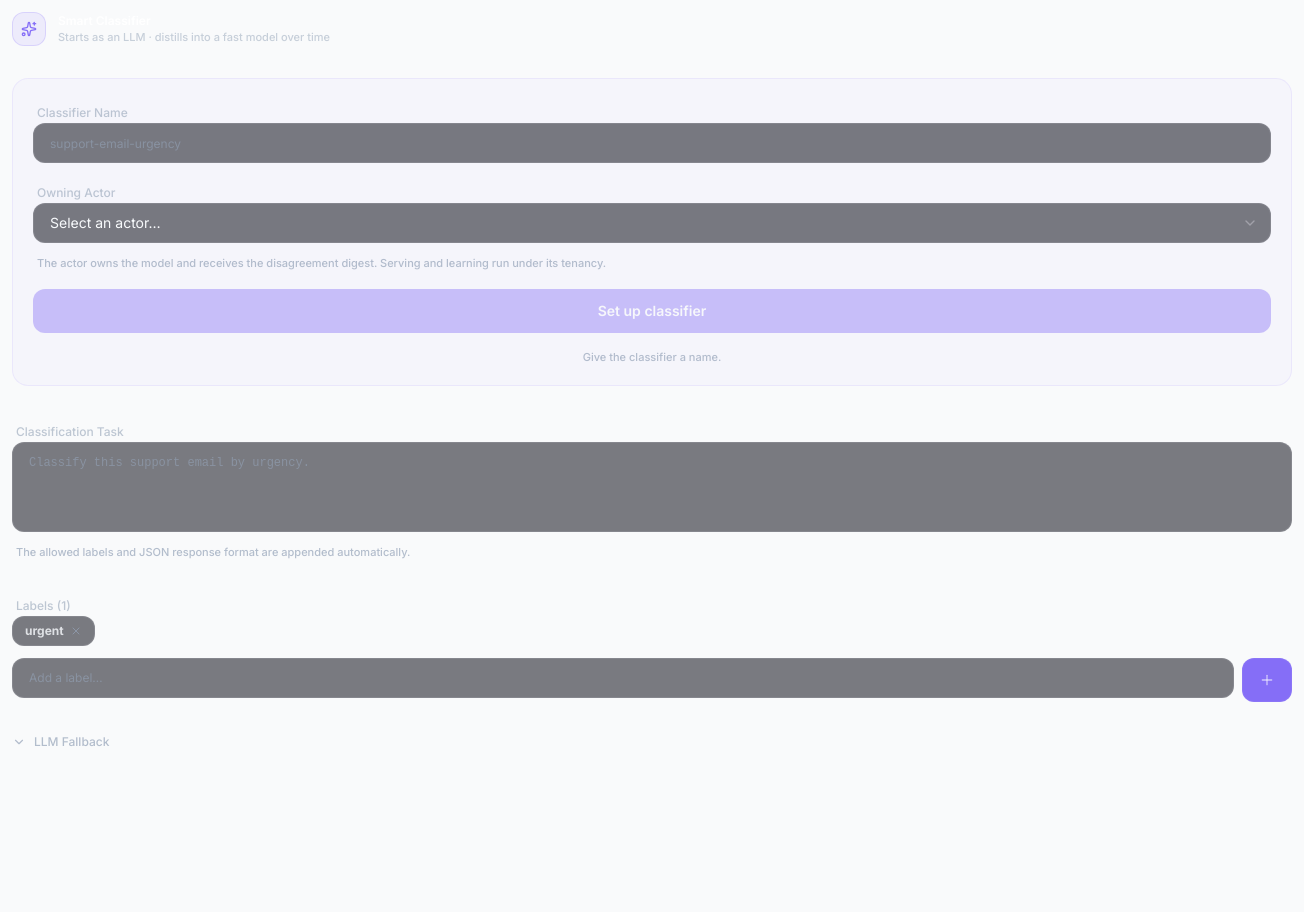
SmartClassifierConfig › disables setup until name, 2+ labels, and an actor are provided
Expected: the button "Set up classifier" is disabled, [33,289,1271,333]
# With a valid name the reason advances to the missing-label requirement.
Step 1. Type "email-urgency" into the field with placeholder "support-email-urgency" → (652, 143), box [33,123,1271,163]
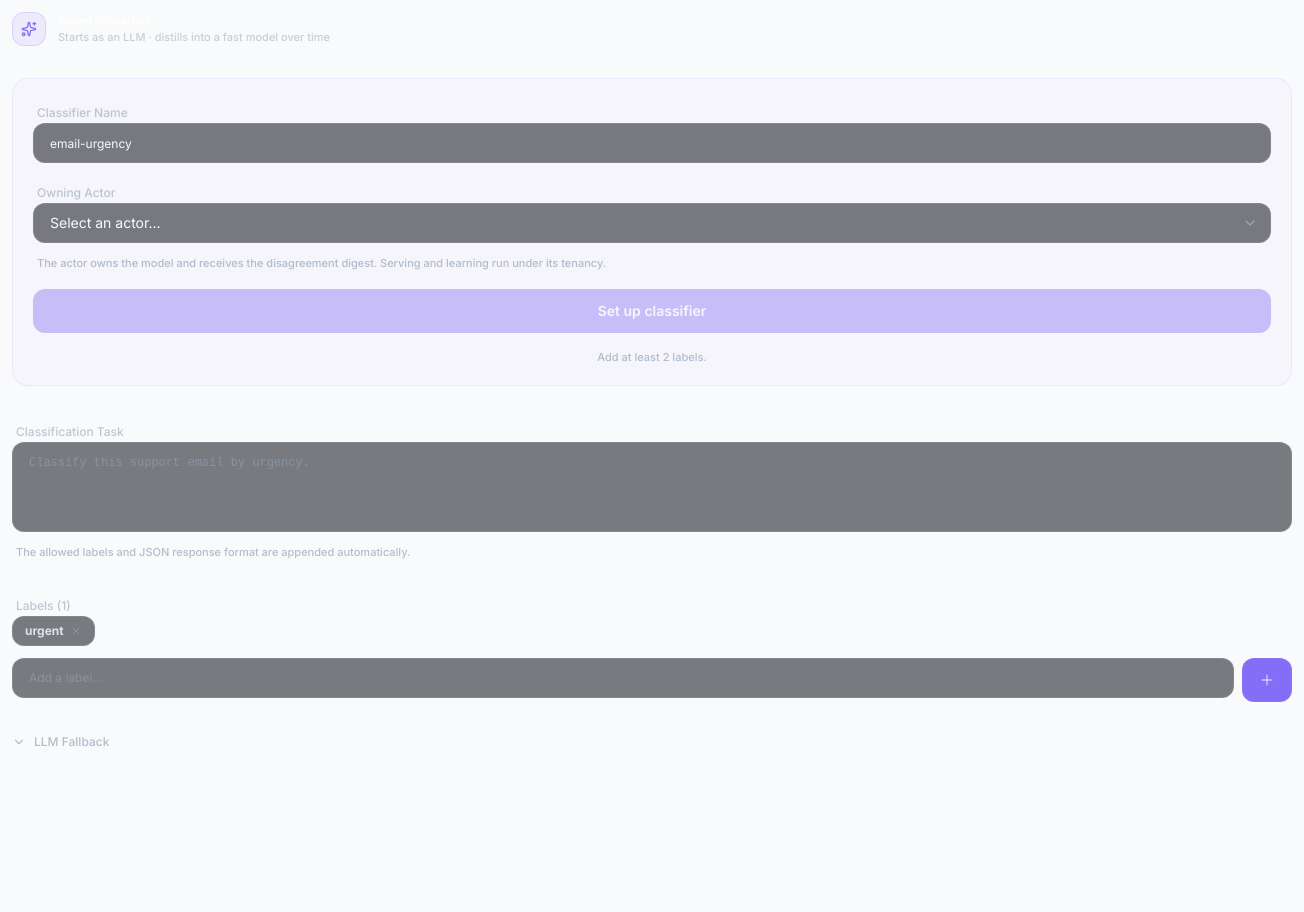
Expected: the button "Set up classifier" is disabled, [33,289,1271,333]
Result: the text "Add at least 2 labels." is shown at [597,350,707,364]
